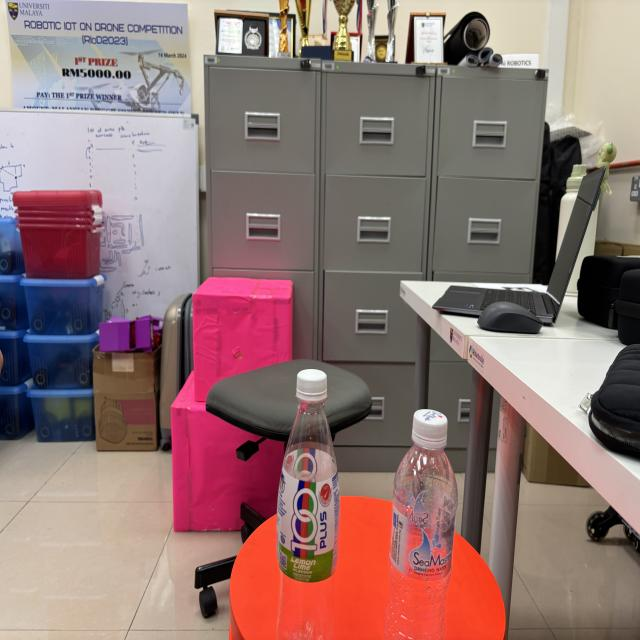plastic_bottle: (267, 355, 352, 640), (382, 406, 468, 640)
